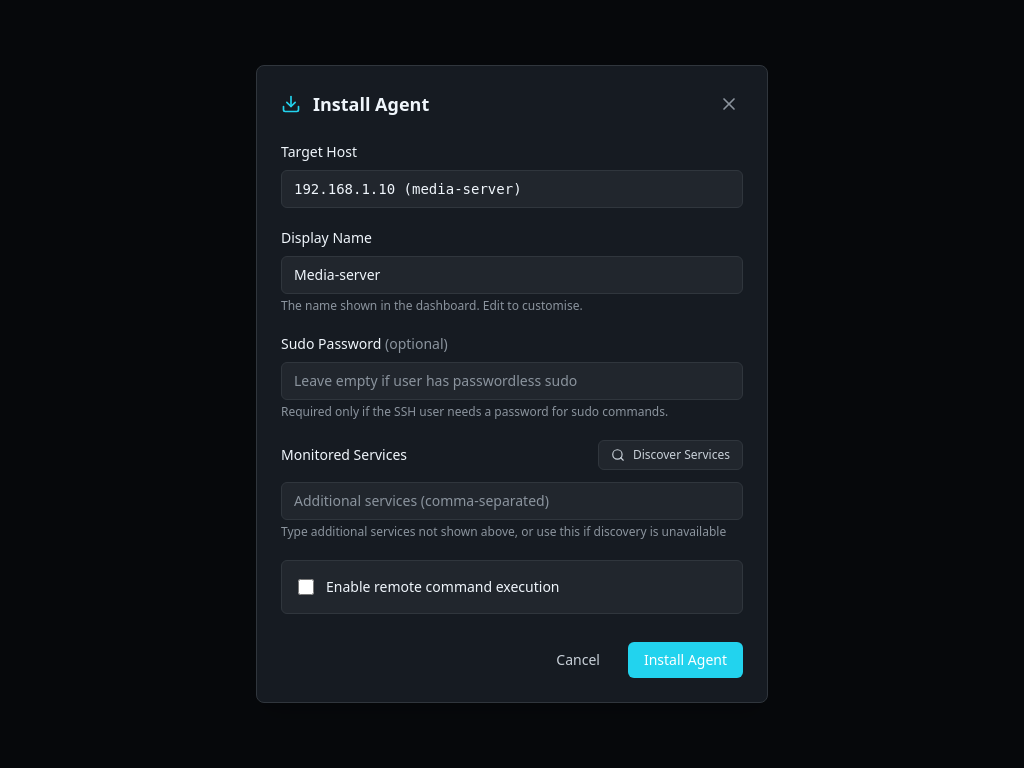
Scenario: AgentInstallModal › installs agent successfully
Click the button with test id "install-button".
click(686, 660)  # box [628,642,743,678]
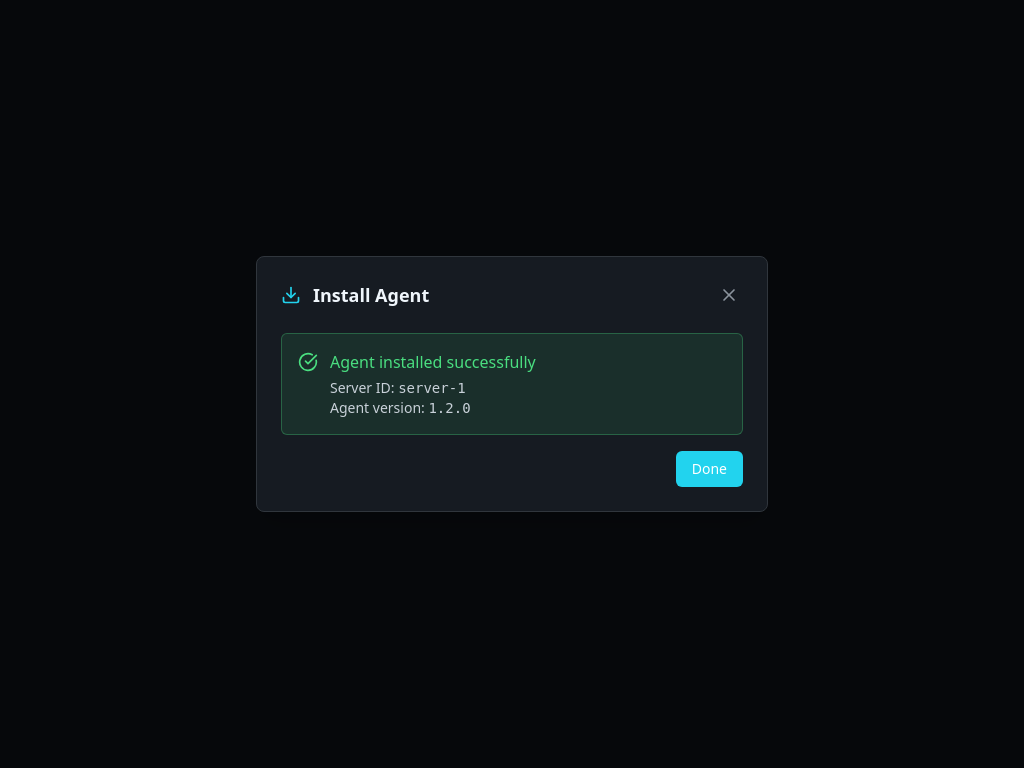
Check: the text "Agent installed successfully" is shown, box [330,350,536,374]
